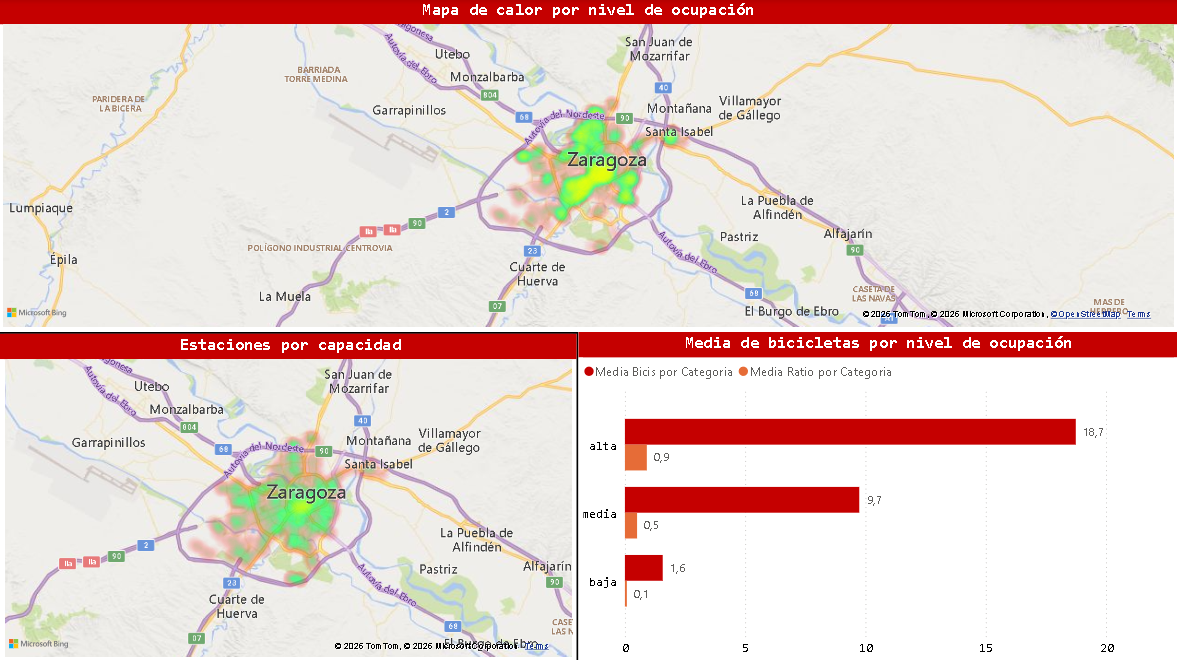

Layout of this report page (visuals, bound fields, positions):
{"tool":"powerbi","page":{"name":"Análisis espacial","canvas":[1280,720],"ordinal":4},"visuals":[{"type":"map","title":"Mapa de calor por nivel de ocupación","fields":{"Y":["bizi_clean.lat"],"X":["bizi_clean.lon"],"Size":["Sum(bizi_clean.ratio_estacion)"]},"box":[0,0,1280.6,359.5],"z":0},{"type":"map","title":"Mapa de calor de estaciones por capacidad","fields":{"Y":["bizi_clean.lat"],"X":["bizi_clean.lon"],"Size":["Sum(bizi_clean.capacity)"]},"box":[0,361.1,629.5,359.5],"z":1000},{"type":"clusteredBarChart","title":"Media de bicicletas por nivel de ocupación","fields":{"Category":["bizi_clean.ocupacion_categoria"],"Y":["bizi_clean.Media Bicis por Categoria","bizi_clean.Media Ratio por Categoria"]},"box":[629,361,651,359],"z":2000}]}

Visuals, with their boxes in screenshot pixels (x1, y1, x2, y2), scaled from the page's 1280x720 canvas onto the 1177x660 screenshot:
"Mapa de calor por nivel de ocupación" map: bbox=[0, 0, 1176, 330]
"Mapa de calor de estaciones por capacidad" map: bbox=[0, 331, 579, 659]
"Media de bicicletas por nivel de ocupación" clusteredBarChart: bbox=[578, 331, 1176, 659]
